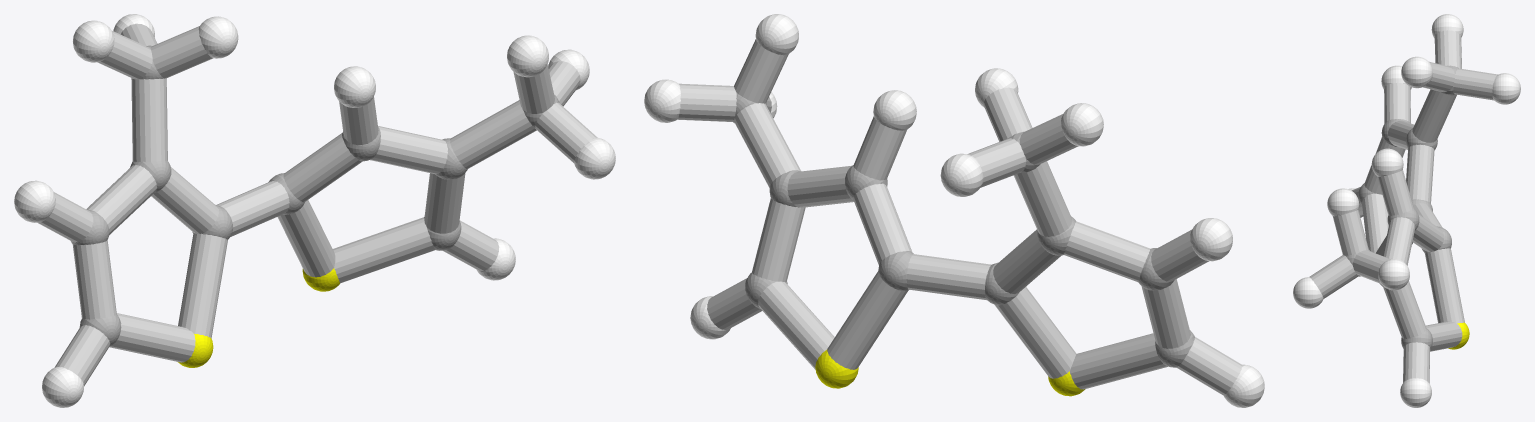
The model's file is Methylthiophene_Phi_30_Theta_220_Methylthiophene.glb.
3 views of the same model, side by side, from view 1: azimuth 30°, elevation 25°; view 2: azimuth 150°, elevation 25°; view 3: azimuth 270°, elevation 25° (orthographic). The views are drawn at different scales.
Parts seen in each view (by area): view 1: grp7965, grp3621, grp1, grp7241; view 2: grp7965, grp3621, grp1, grp7241; view 3: grp7965, grp3621, grp1, grp7241.
Part boxes in pixels (x1,y1,x2,y2): grp7965: (37, 23, 597, 386); grp3621: (14, 14, 615, 407); grp1: (71, 45, 559, 346); grp7241: (178, 268, 339, 367); grp7965: (677, 39, 1242, 395); grp3621: (644, 14, 1264, 407); grp1: (733, 92, 1194, 367); grp7241: (815, 349, 1085, 396); grp7965: (1309, 30, 1497, 383); grp3621: (1293, 14, 1520, 407); grp1: (1346, 65, 1458, 348); grp7241: (1448, 322, 1469, 349).
Bounding box in the file's own units: 9.33 × 5.22 × 4.29.
